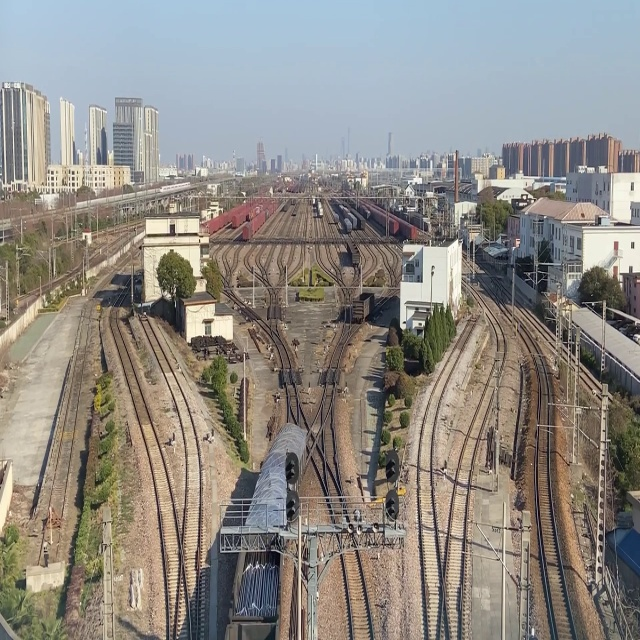train: (218, 418, 309, 640)
